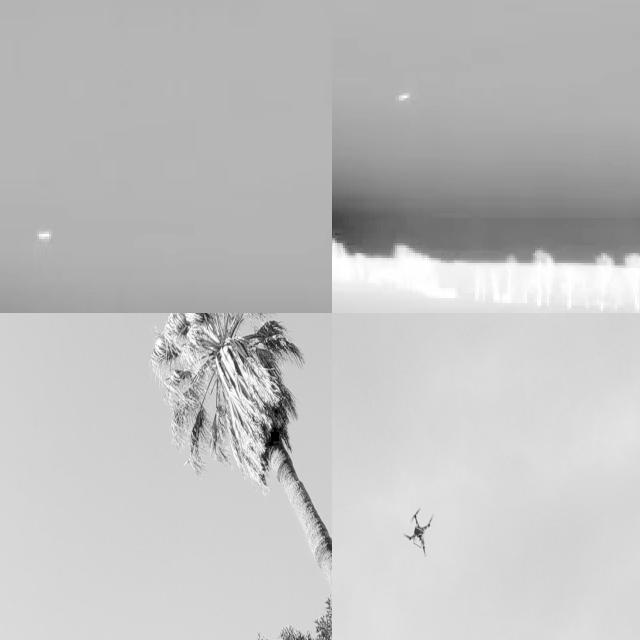1: (387, 86, 421, 120), (29, 224, 61, 254)
drone: (404, 510, 440, 560)
